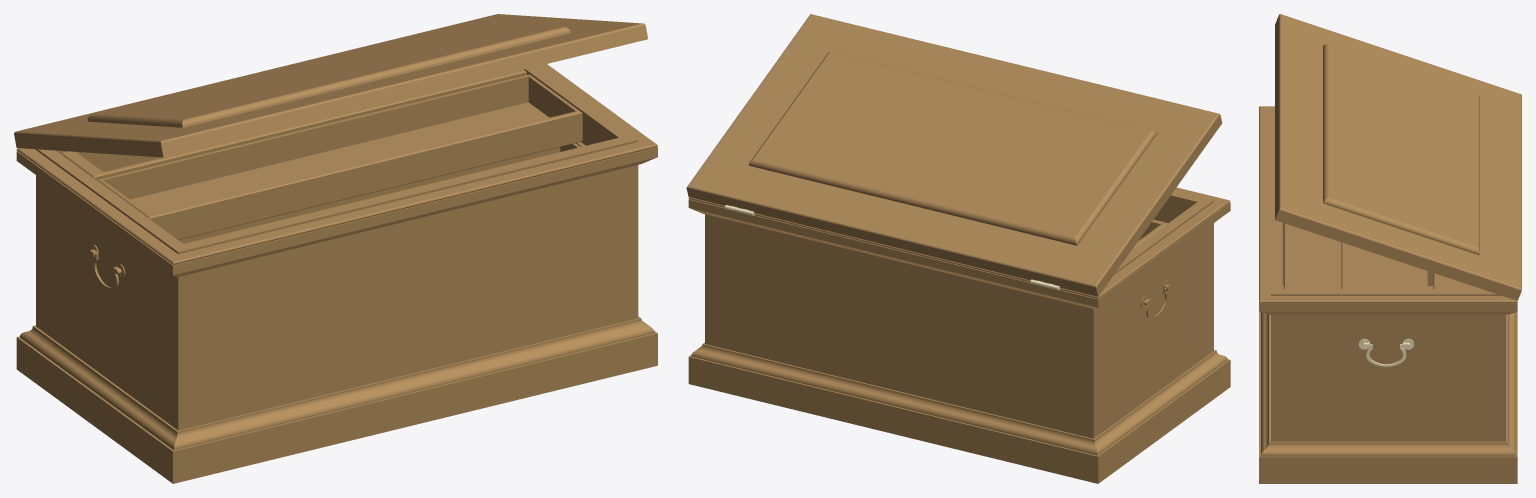
The picture shows the model from 3 angles, left to right: view 1: azimuth 30°, elevation 25°; view 2: azimuth 150°, elevation 25°; view 3: azimuth 270°, elevation 25°; orthographic projection. The views are drawn at different scales.
Visible parts, largest first — view 1: instance_36_front_back, instance_38_Base_mold_front_back, instance_35_sides, group_1_instance_6_lid_panel, group_3_instance_22_chisel_tray_front_back, group_3_instance_18_chisel_tray_front_back, group_0_instance_0_top_mold_front_back_1, group_3_instance_19_chisel_tray_bottom, group_1_instance_11_lid_molding_stiles_1, instance_40_base_mold_sides, group_0_instance_3_top_mold_sides, group_1_instance_9_lid_stiles (+10 smaller); view 2: instance_37_front_back, group_1_instance_6_lid_panel, instance_41_Base_mold_front_back, instance_35_sides, group_1_instance_7_lid_stiles, group_1_instance_9_lid_stiles, group_1_instance_12_lid_molding_stiles, instance_40_base_mold_sides, group_0_instance_1_top_mold_front_back, group_1_instance_4_lid_rails, group_1_instance_8_lid_rails, group_1_instance_10_lid_molding_rails (+4 smaller); view 3: instance_44_sides, group_1_instance_6_lid_panel, instance_39_base_mold_sides, group_1_instance_7_lid_stiles, group_1_instance_9_lid_stiles, group_0_instance_2_top_mold_sides, group_1_instance_5_lid_molding_rails, group_2_instance_17_handplane_tray_bottom, group_1_instance_11_lid_molding_stiles_1, instance_36_front_back, group_3_instance_19_chisel_tray_bottom, group_1_instance_8_lid_rails (+7 smaller).
Part boxes in pixels (x1,y1,x2,y2): instance_36_front_back: (171,138,638,430); instance_38_Base_mold_front_back: (173,318,657,483); instance_35_sides: (36,149,190,430); group_1_instance_6_lid_panel: (87,21,570,127); group_3_instance_22_chisel_tray_front_back: (151,111,582,237); group_3_instance_18_chisel_tray_front_back: (102,75,528,199); group_0_instance_0_top_mold_front_back_1: (173,142,657,276); group_3_instance_19_chisel_tray_bottom: (130,102,582,239); group_1_instance_11_lid_molding_stiles_1: (161,23,647,157); instance_40_base_mold_sides: (16,326,178,483); group_0_instance_3_top_mold_sides: (16,148,177,274); group_1_instance_9_lid_stiles: (144,24,627,138); instance_37_front_back: (705,214,1099,438); group_1_instance_6_lid_panel: (748,52,1156,245); instance_41_Base_mold_front_back: (688,344,1098,483); instance_35_sides: (1083,197,1213,438); group_1_instance_7_lid_stiles: (701,155,1109,276); group_1_instance_9_lid_stiles: (796,23,1204,144); group_1_instance_12_lid_molding_stiles: (686,182,1098,296); instance_40_base_mold_sides: (1094,350,1230,483); group_0_instance_1_top_mold_front_back: (688,197,1098,308); group_1_instance_4_lid_rails: (1079,136,1185,250); group_1_instance_8_lid_rails: (720,49,825,162); group_1_instance_10_lid_molding_rails: (1091,113,1222,296); instance_44_sides: (1271,289,1505,441); group_1_instance_6_lid_panel: (1323,44,1479,255); instance_39_base_mold_sides: (1259,441,1517,483); group_1_instance_7_lid_stiles: (1475,83,1512,281); group_1_instance_9_lid_stiles: (1290,21,1326,219); group_0_instance_2_top_mold_sides: (1259,296,1517,314); group_1_instance_5_lid_molding_rails: (1275,207,1521,300); group_2_instance_17_handplane_tray_bottom: (1288,224,1341,289); group_1_instance_11_lid_molding_stiles_1: (1275,14,1289,219); instance_36_front_back: (1271,114,1282,441); group_3_instance_19_chisel_tray_bottom: (1345,243,1423,287); group_1_instance_8_lid_rails: (1326,205,1475,268).
Size of the model in its own units: 29.5 by 19.36 by 16.77.
